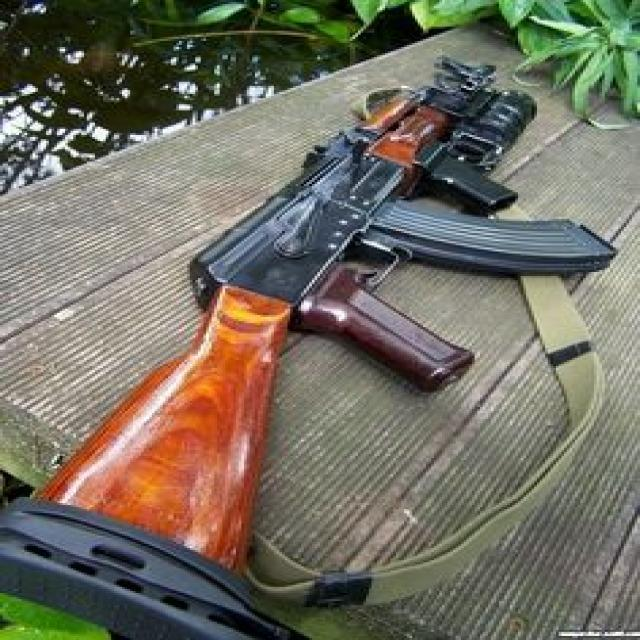ak: (7, 56, 620, 608)
